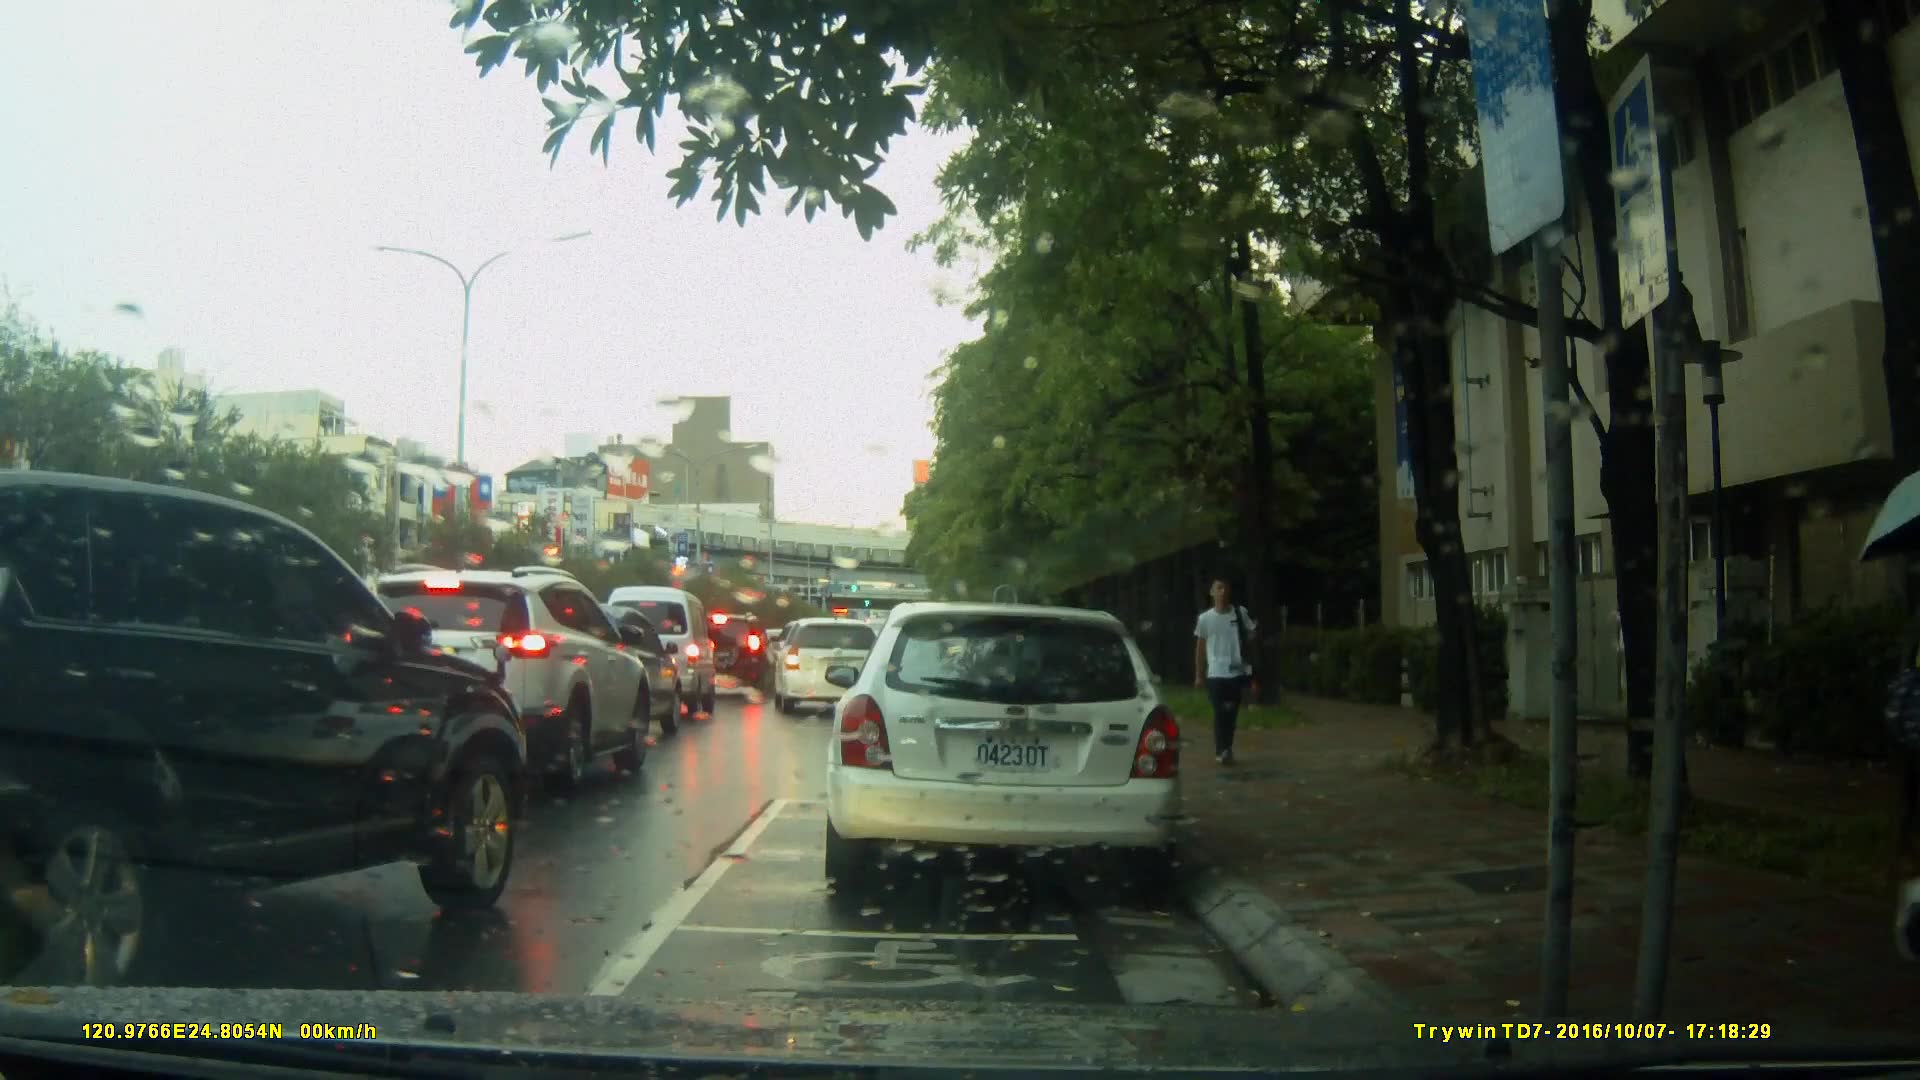pedestrian: (1188, 567, 1266, 785)
vehicle: (1, 469, 531, 988), (820, 602, 1188, 898), (338, 563, 658, 791), (529, 603, 690, 738), (597, 585, 721, 722), (772, 617, 891, 715), (682, 611, 772, 699)
